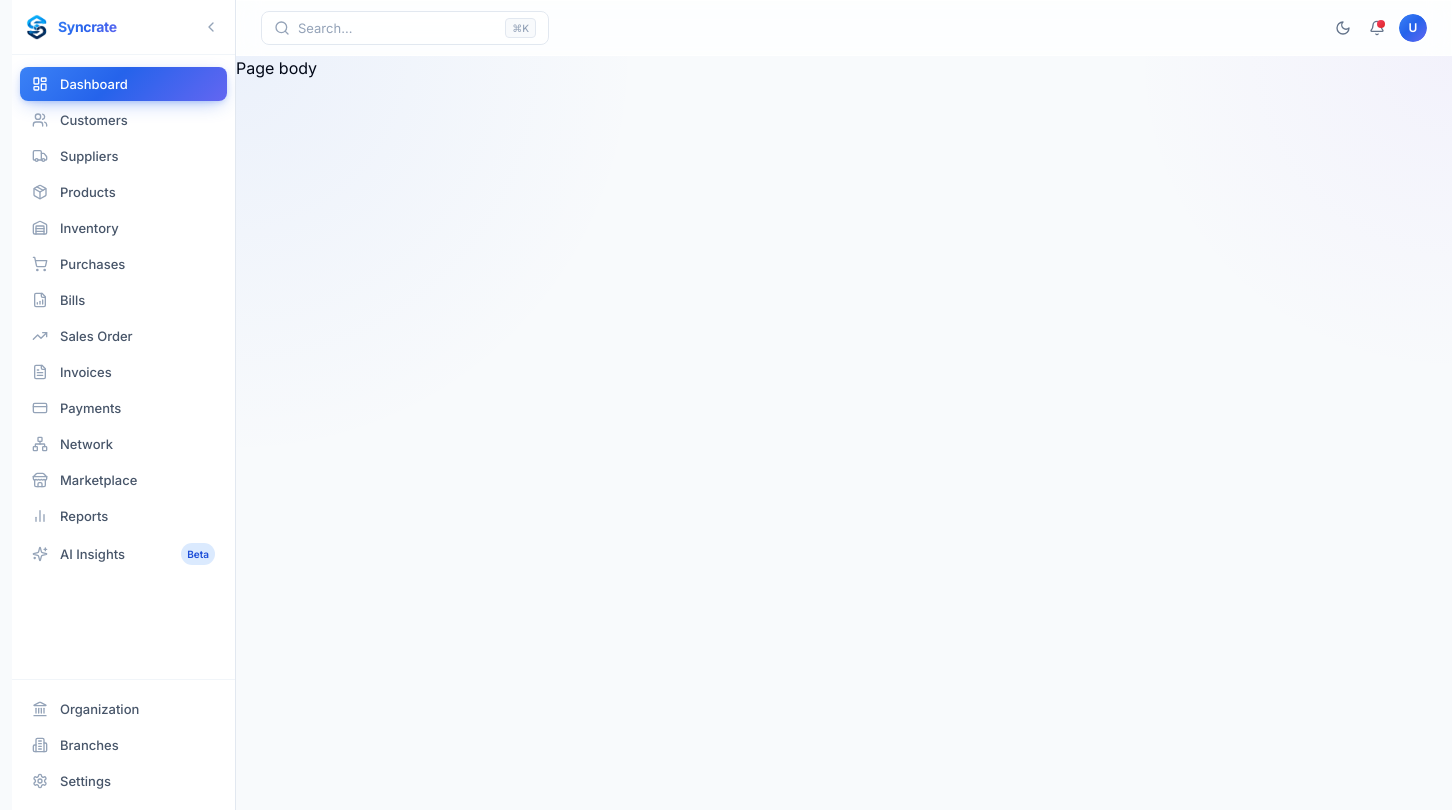
Scenario: AppShell › collapses and expands the desktop sidebar
The image size is (1452, 810).
Click the button named "collapse sidebar" at (211, 27), box [199, 15, 223, 39]
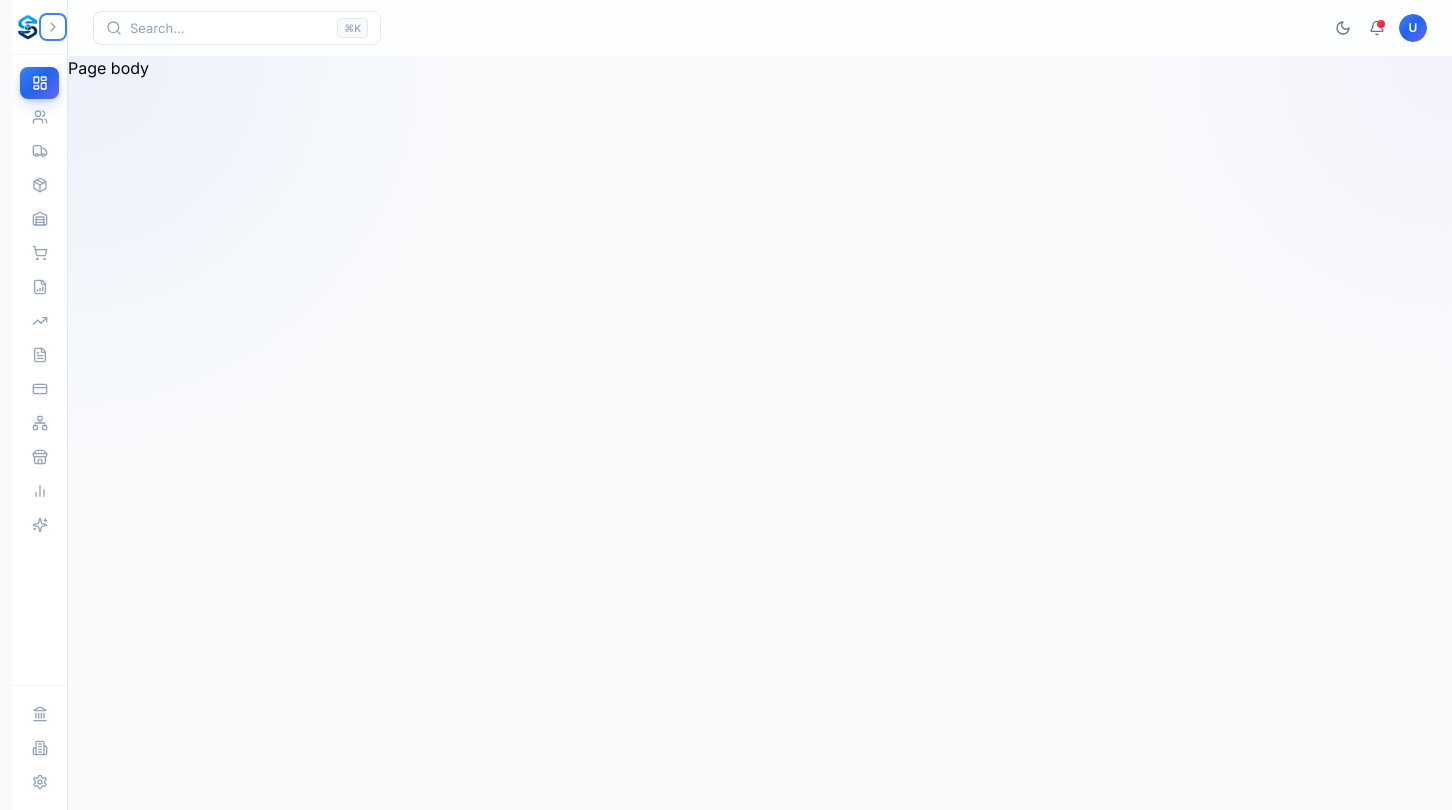
Result: the button named "expand sidebar" is shown
Click the button named "expand sidebar" at (52, 27), box [40, 15, 64, 39]
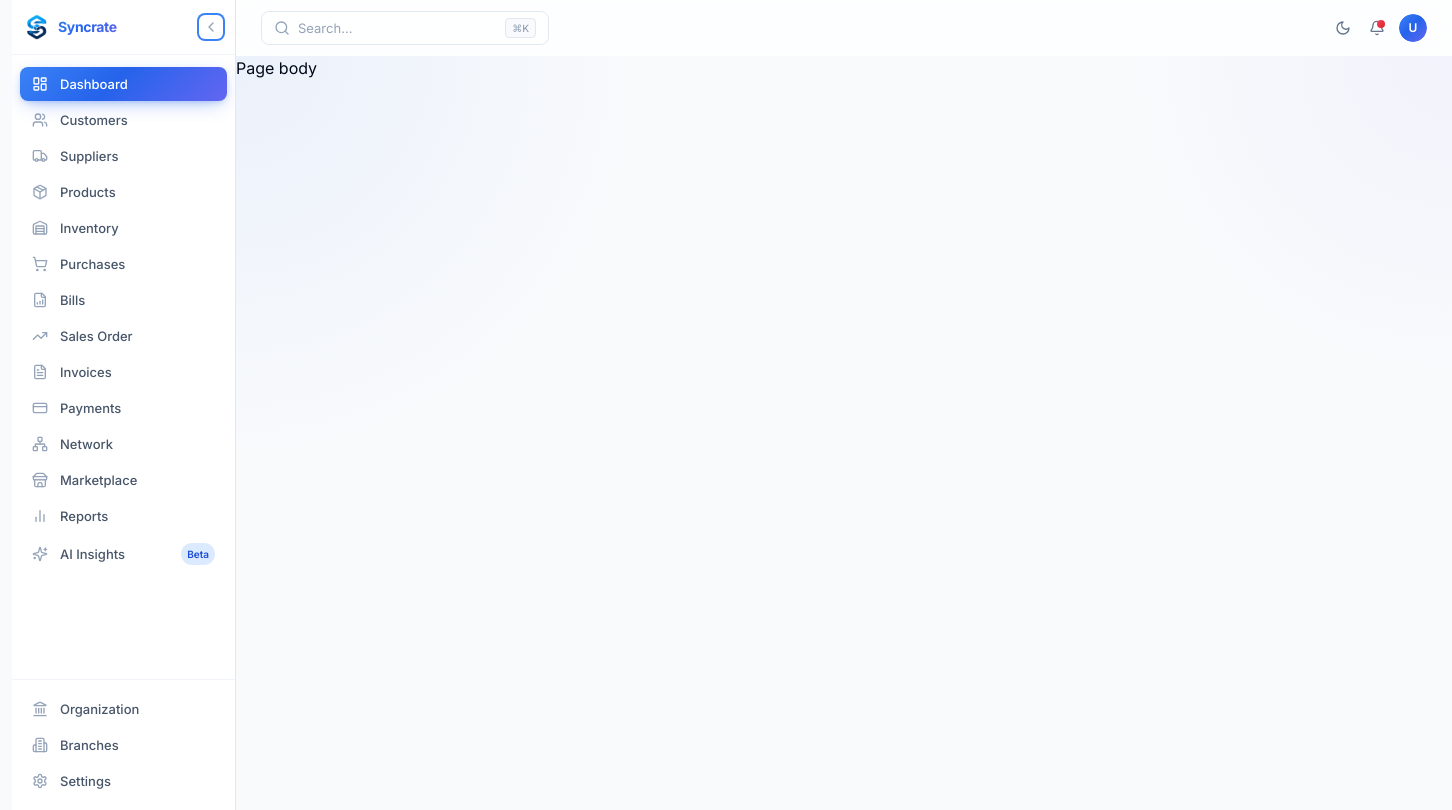
Result: the button named "collapse sidebar" is shown at [199, 15, 223, 39]
